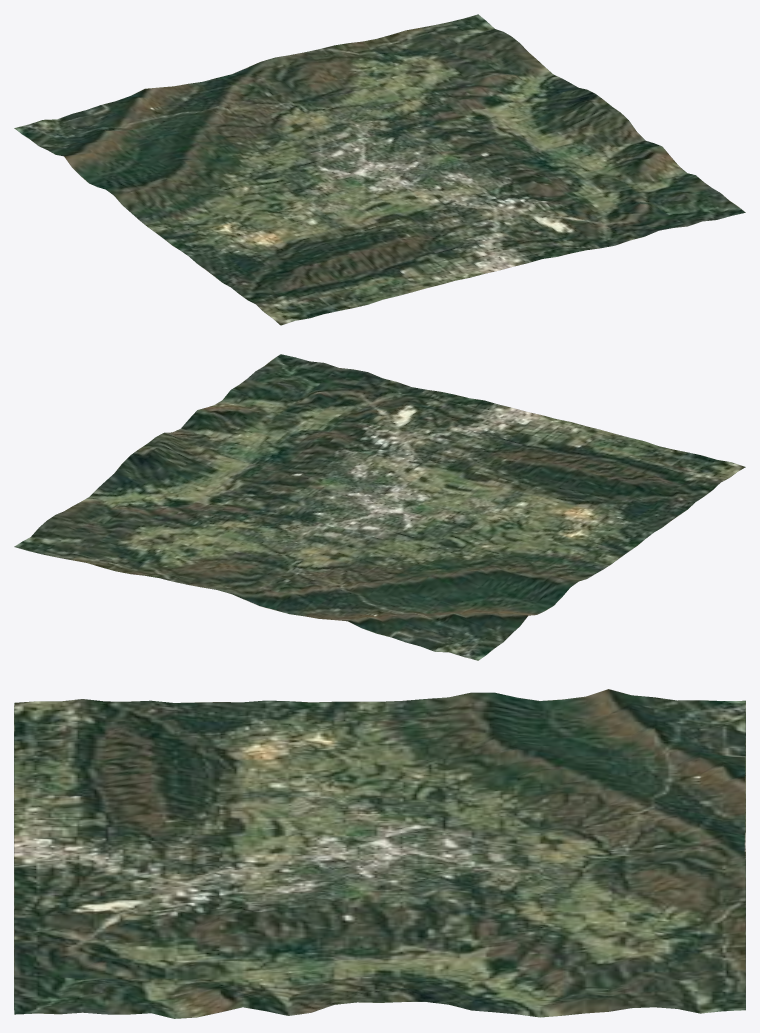
3 renders of one model, top to bottom at view 1: azimuth 30°, elevation 25°; view 2: azimuth 150°, elevation 25°; view 3: azimuth 270°, elevation 25°, orthographic. The views are drawn at different scales.
Size of the model in its own units: 15615 by 463 by 15538.
Materials: 1 (1 with a texture image).
